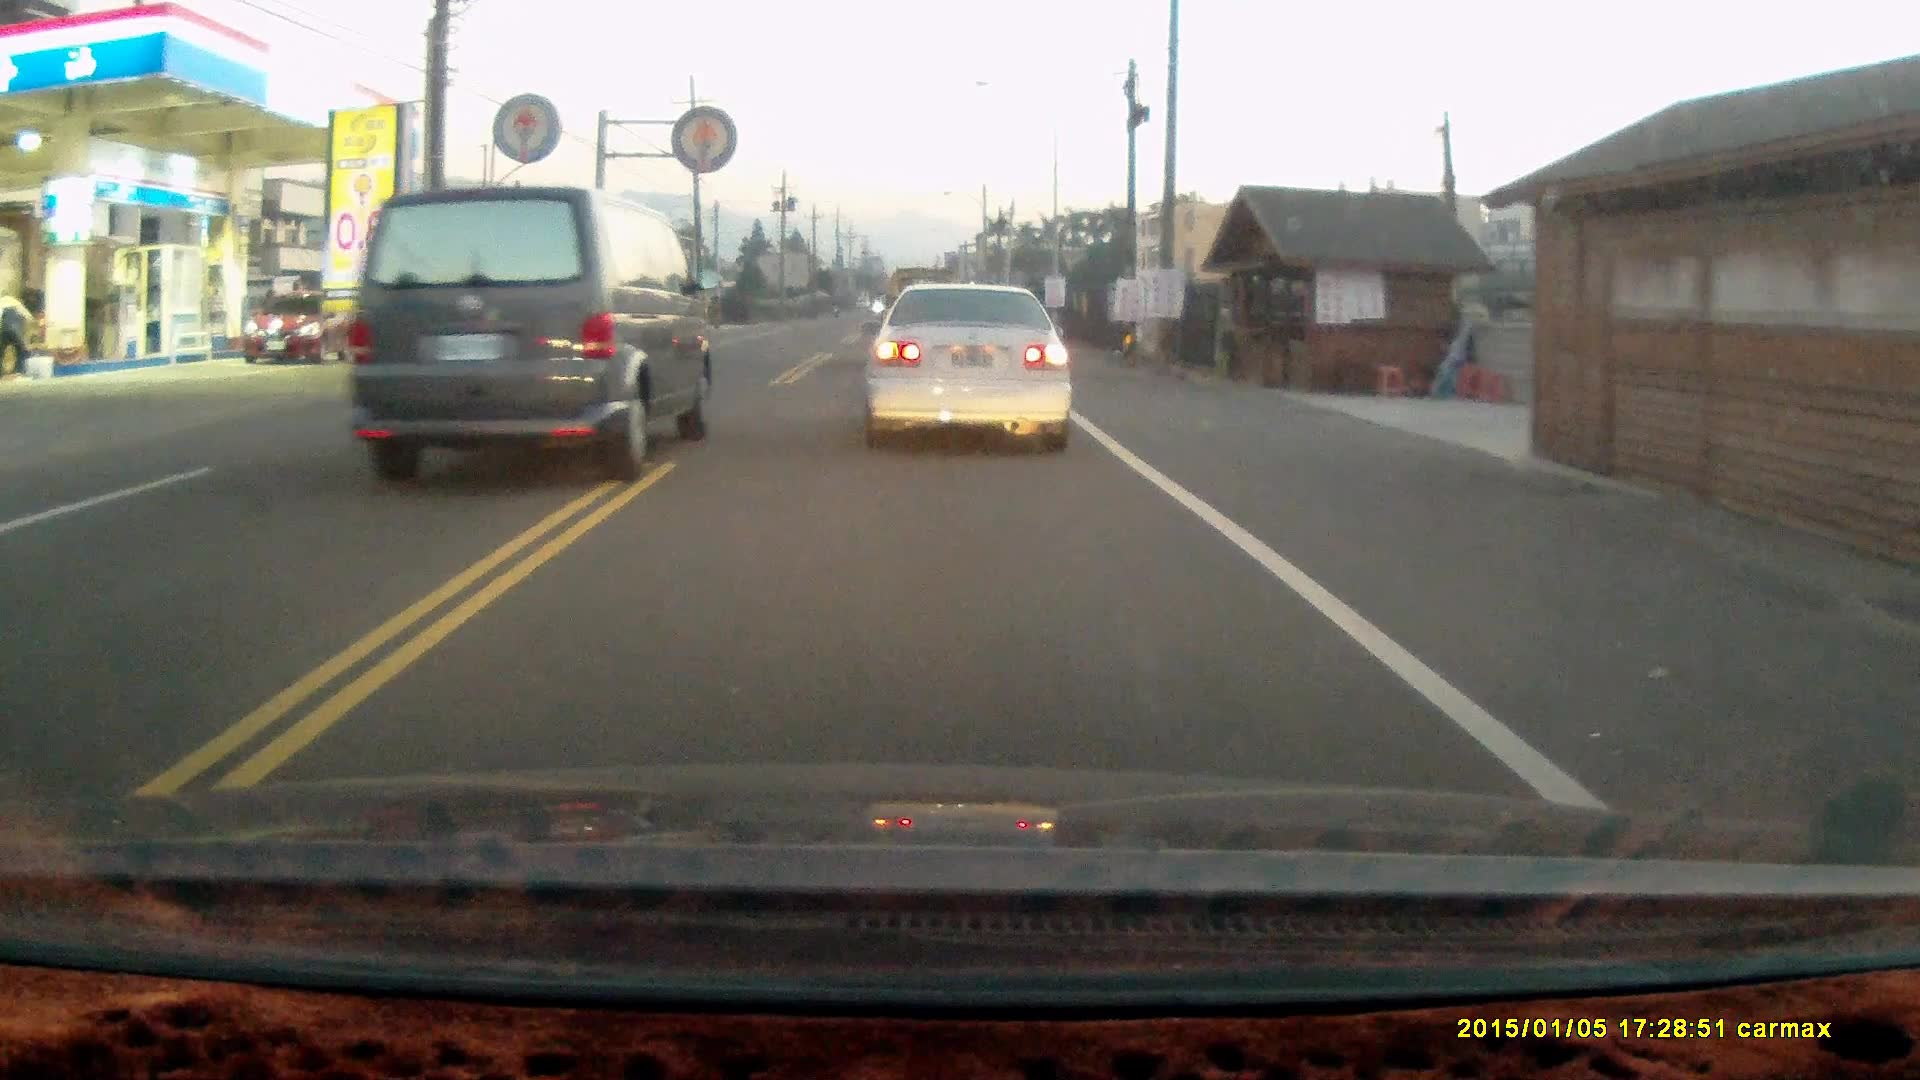pedestrian: (0, 283, 33, 374)
vehicle: (342, 181, 718, 484), (863, 279, 1079, 458)
